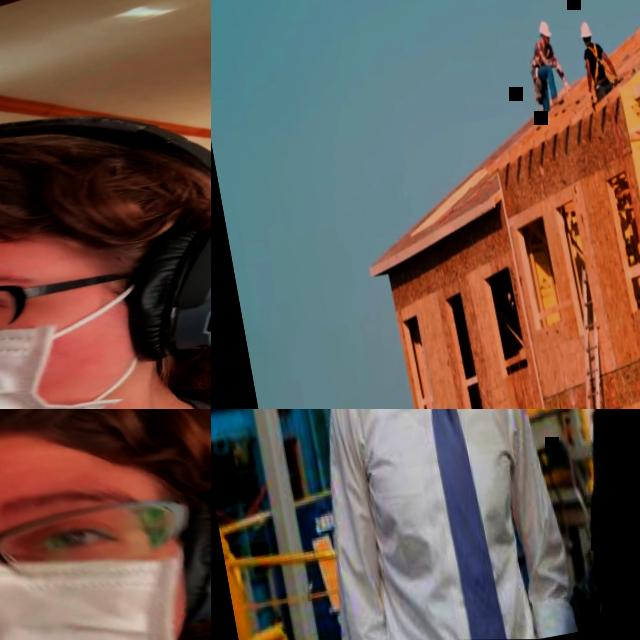Hardhat: (538, 21, 552, 40), (578, 22, 592, 40)
Mask: (0, 281, 177, 409), (0, 534, 208, 640)
NO-Hardhat: (0, 93, 211, 297), (0, 409, 211, 548)
NO-Mask: (543, 39, 549, 46)
NO-Safety Vest: (325, 409, 554, 640), (557, 409, 640, 628), (585, 41, 606, 84), (528, 39, 552, 68)
Person: (251, 409, 582, 640), (0, 66, 211, 409), (0, 409, 211, 640), (487, 409, 640, 633), (522, 18, 572, 114), (576, 18, 620, 104)
